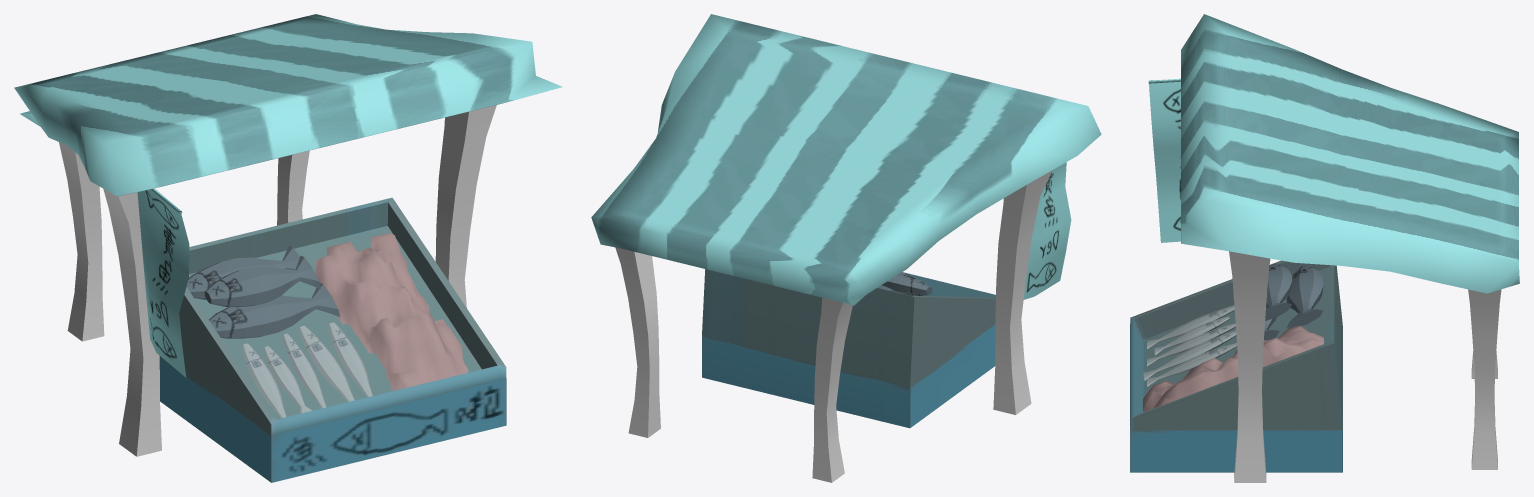
The model's file is FishStall.fbx.
3 views of the same model, side by side, from view 1: azimuth 30°, elevation 25°; view 2: azimuth 150°, elevation 25°; view 3: azimuth 270°, elevation 25° (orthographic). The views are drawn at different scales.
Parts seen in each view (by area): view 1: Top, Station, pPlane3, pCube2, pCube3, Flag, pCube5, pCylinder2, pCylinder4, pCube4, pCylinder3, pCylinder8 (+4 smaller); view 2: Top, Station, pCube2, pCube4, pCube5, Flag, pCylinder4; view 3: Top, Station, pCube3, pCube4, Flag, pPlane3, pCylinder3, pCylinder4, pCylinder8, pCylinder9, pCylinder5, pCylinder7 (+1 smaller).
Part boxes in pixels (x1,y1,x2,y2): Top: (14, 14, 562, 196); Station: (159, 197, 506, 482); pPlane3: (314, 233, 468, 390); pCube2: (103, 189, 161, 456); pCube3: (435, 105, 496, 307); Flag: (137, 189, 189, 377); pCube5: (59, 142, 104, 341); pCylinder2: (209, 283, 339, 338); pCylinder4: (204, 255, 320, 307); pCube4: (277, 150, 309, 225); pCylinder3: (186, 246, 299, 299); pCylinder8: (298, 325, 354, 401); Top: (591, 14, 1101, 305); Station: (702, 269, 995, 428); pCube2: (993, 170, 1052, 414); pCube4: (615, 247, 660, 437); pCube5: (812, 297, 852, 482); Flag: (1023, 162, 1071, 299); pCylinder4: (882, 272, 932, 295); Top: (1181, 14, 1519, 293); Station: (1130, 260, 1342, 472); pCube3: (1229, 251, 1270, 482); pCube4: (1468, 289, 1501, 469); Flag: (1149, 81, 1180, 242); pPlane3: (1143, 326, 1323, 411); pCylinder3: (1286, 264, 1323, 327); pCylinder4: (1265, 263, 1291, 320); pCylinder8: (1143, 330, 1236, 380); pCylinder9: (1147, 343, 1236, 386); pCylinder5: (1147, 306, 1234, 349); pCylinder7: (1147, 323, 1235, 366).
Size of the model in its own units: 18.1 by 13.09 by 15.31.
7 materials, 5 textured.
